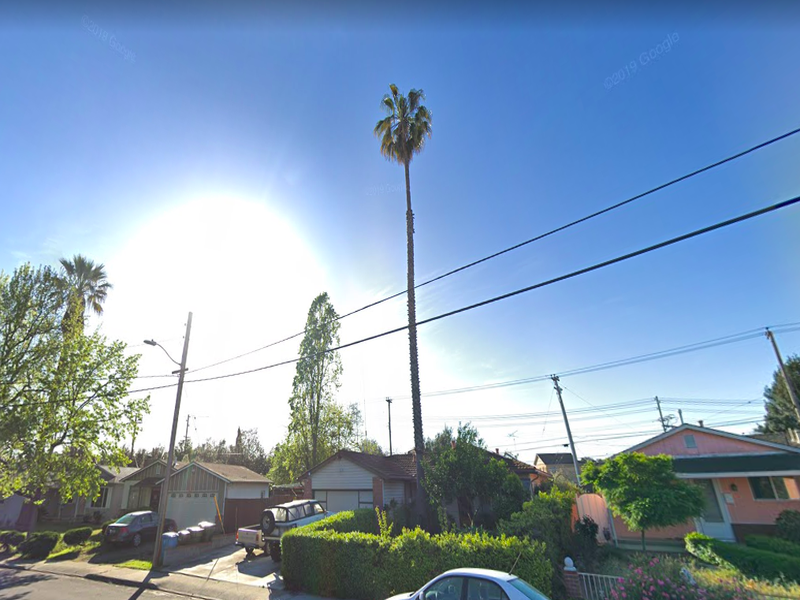tree: (372, 84, 435, 541)
